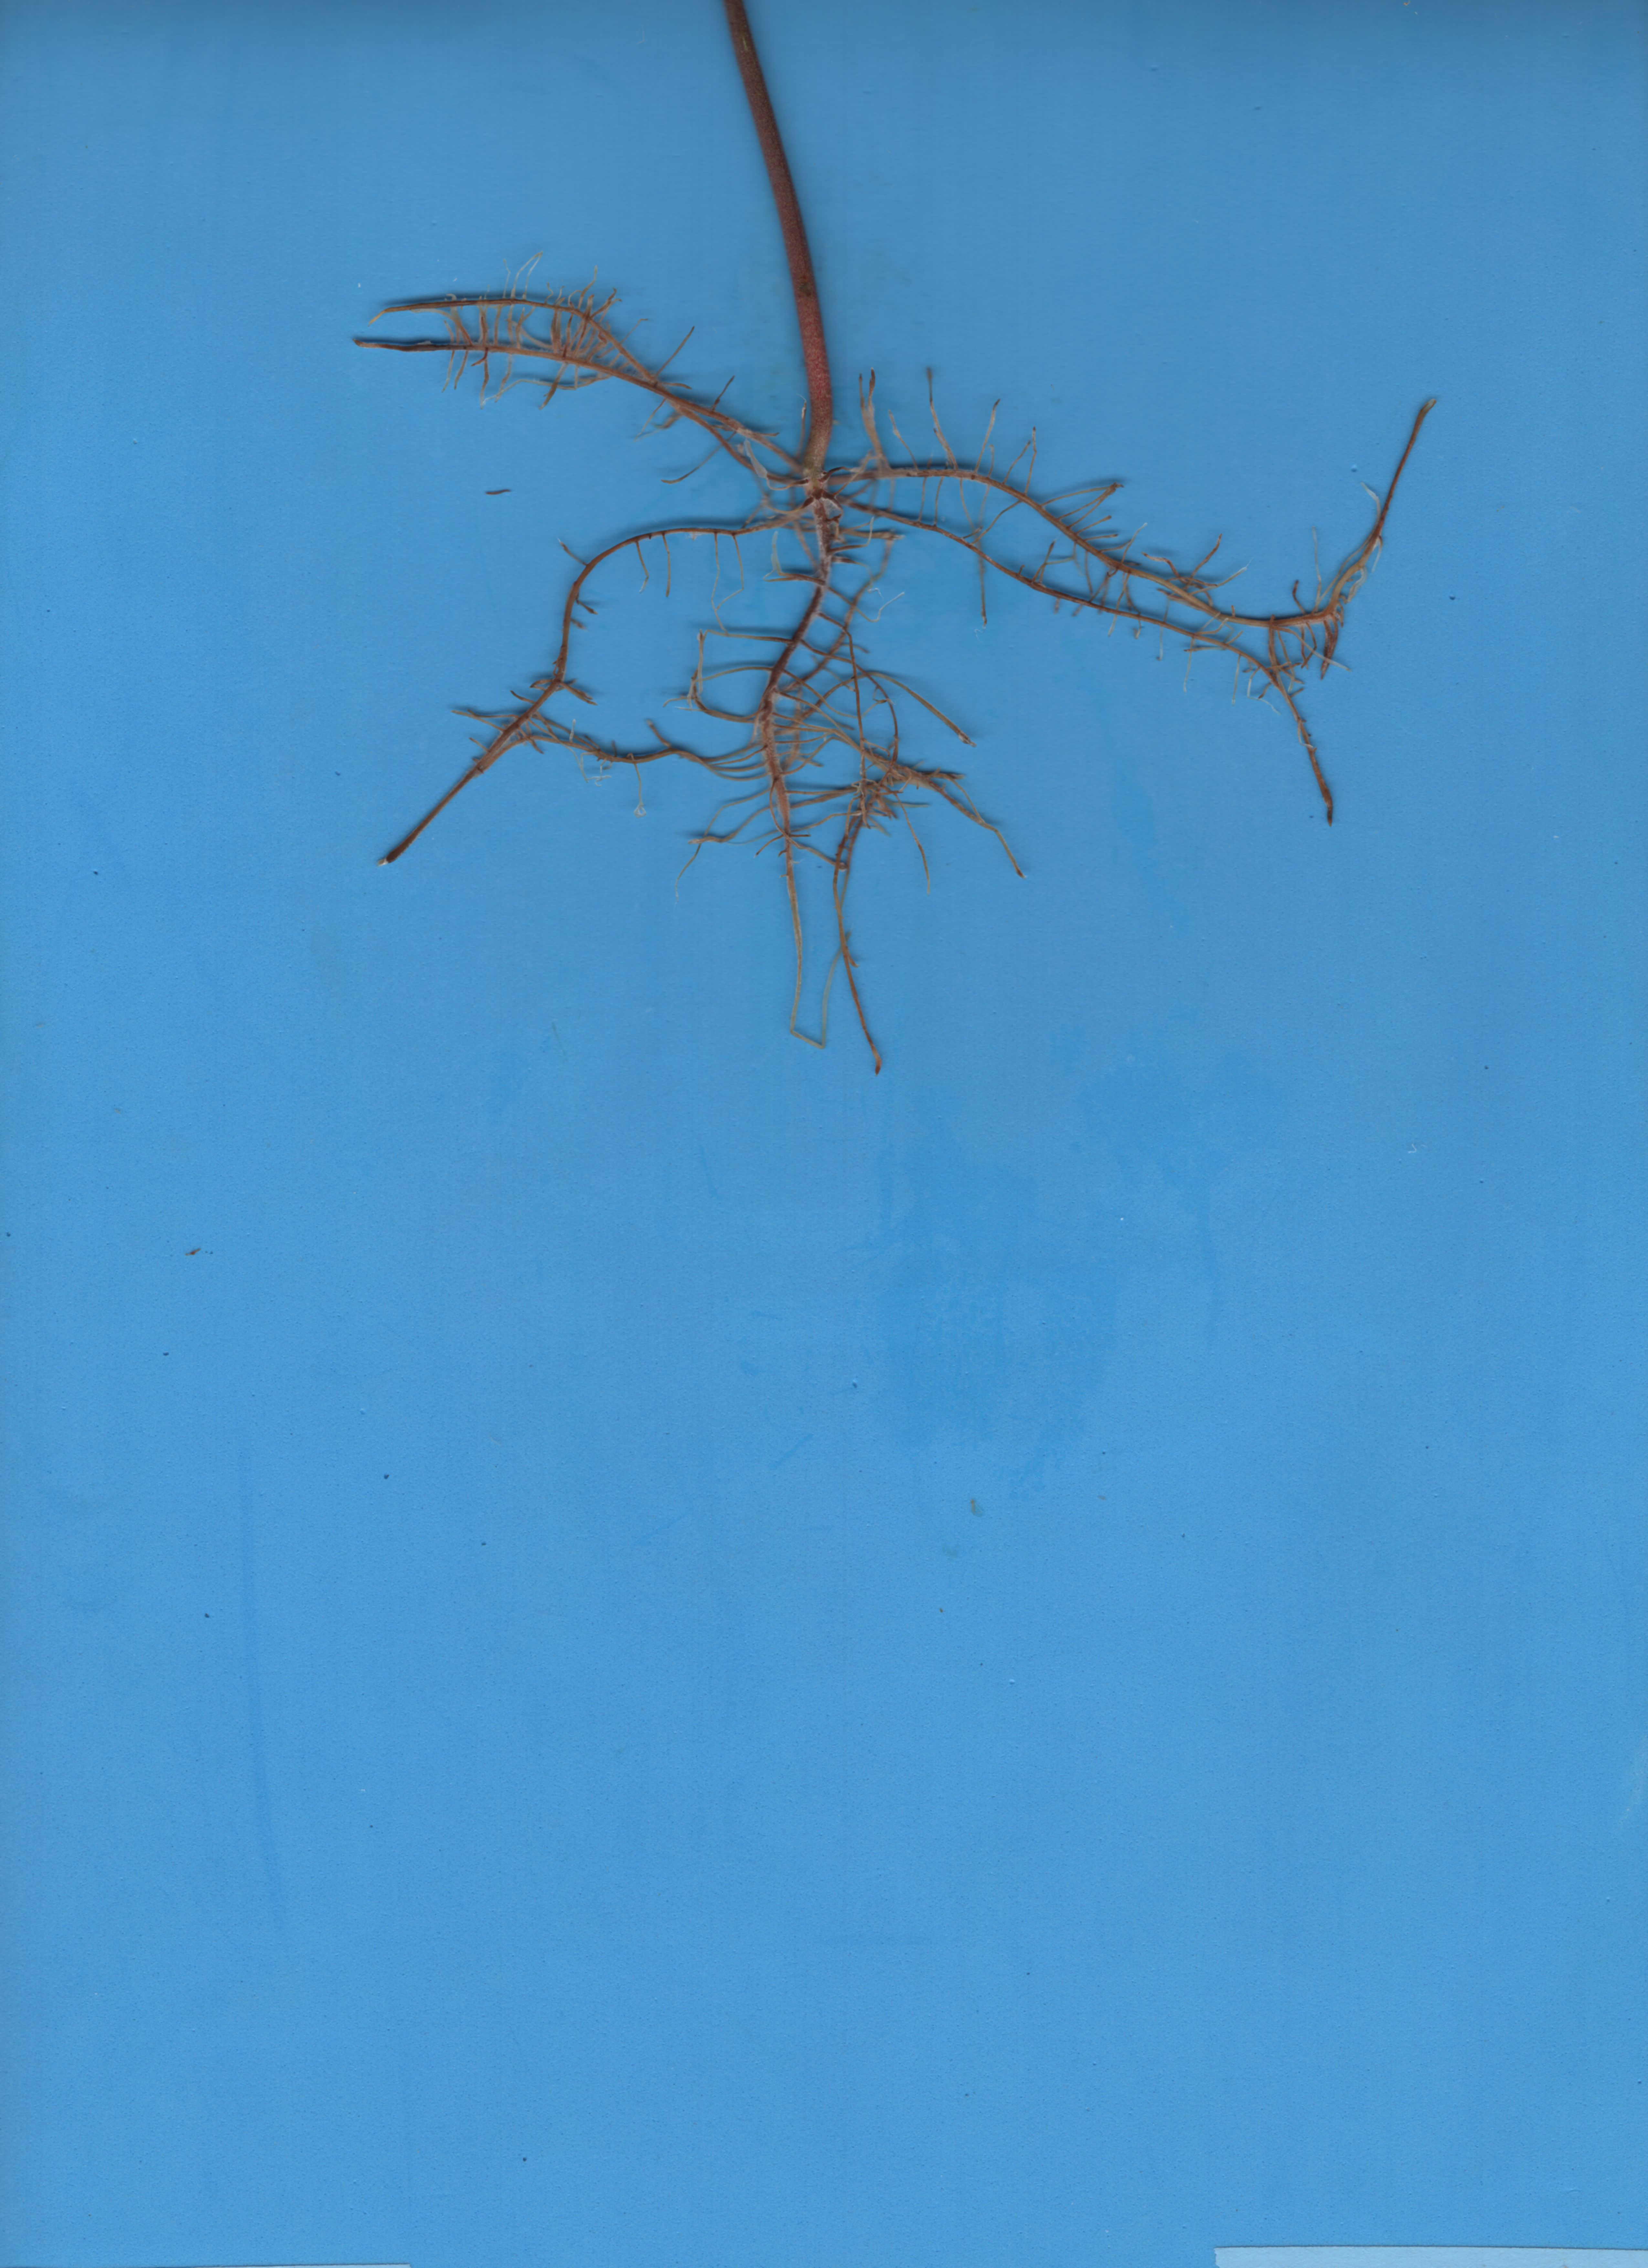CROWNDISEASE: (681, 0, 886, 475)
ROOTDISEASE: (185, 255, 1539, 1134)
